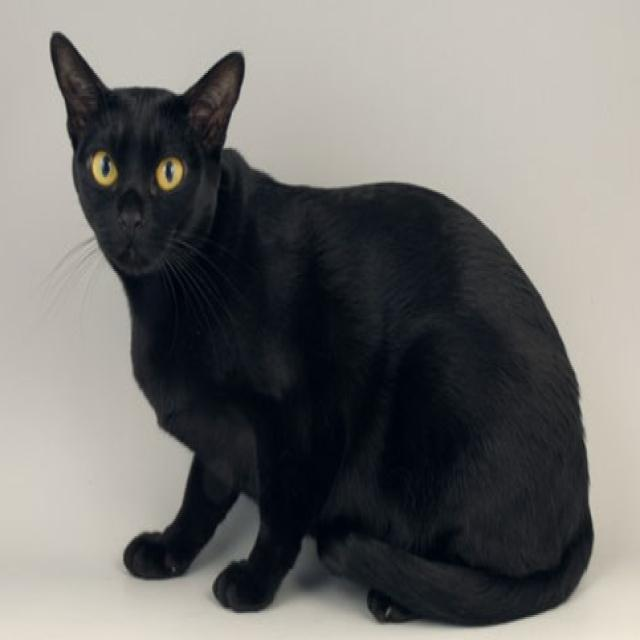Bombay: (46, 24, 599, 634)
